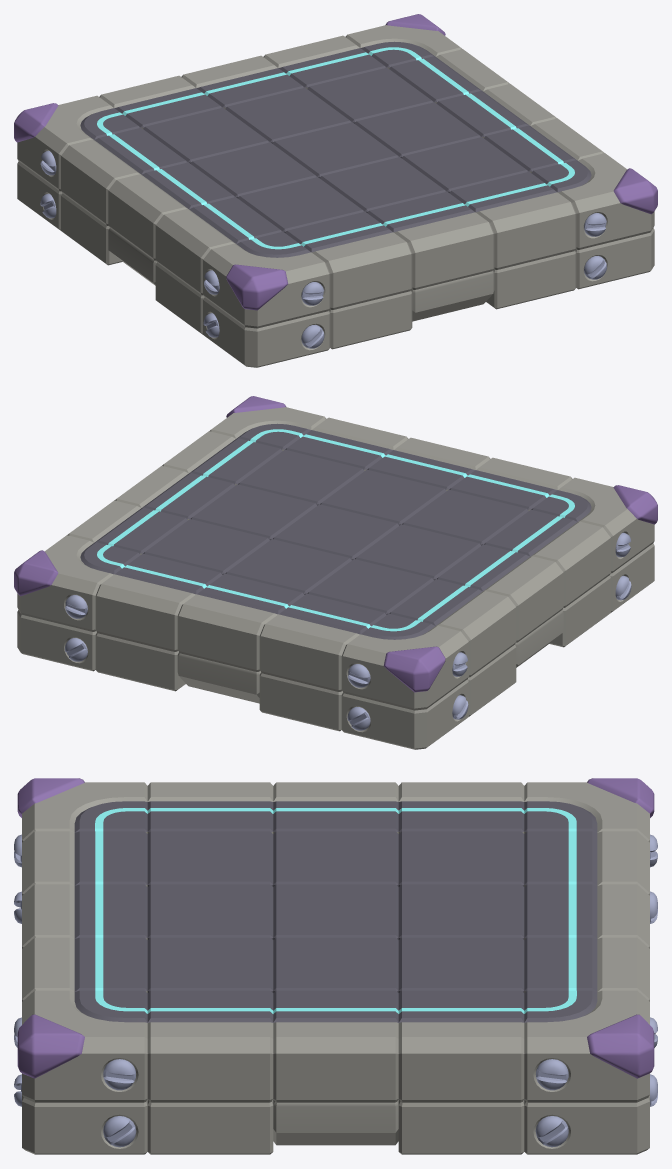
Rendered from stage01.dae.
The picture shows the model from 3 angles, top to bottom: view 1: azimuth 30°, elevation 25°; view 2: azimuth 150°, elevation 25°; view 3: azimuth 270°, elevation 25°; orthographic projection. The views are drawn at different scales.
Parts seen in each view (by area): view 1: FloorBase; view 2: FloorBase; view 3: FloorBase.
Part boxes in pixels (left/top/right/bottom): FloorBase: left=14, top=14, right=657, bottom=367; FloorBase: left=14, top=396, right=657, bottom=749; FloorBase: left=14, top=778, right=657, bottom=1154.
Bounding box in the file's own units: 5.13 × 1.04 × 5.13.
Materials: 1 (1 with a texture image).
